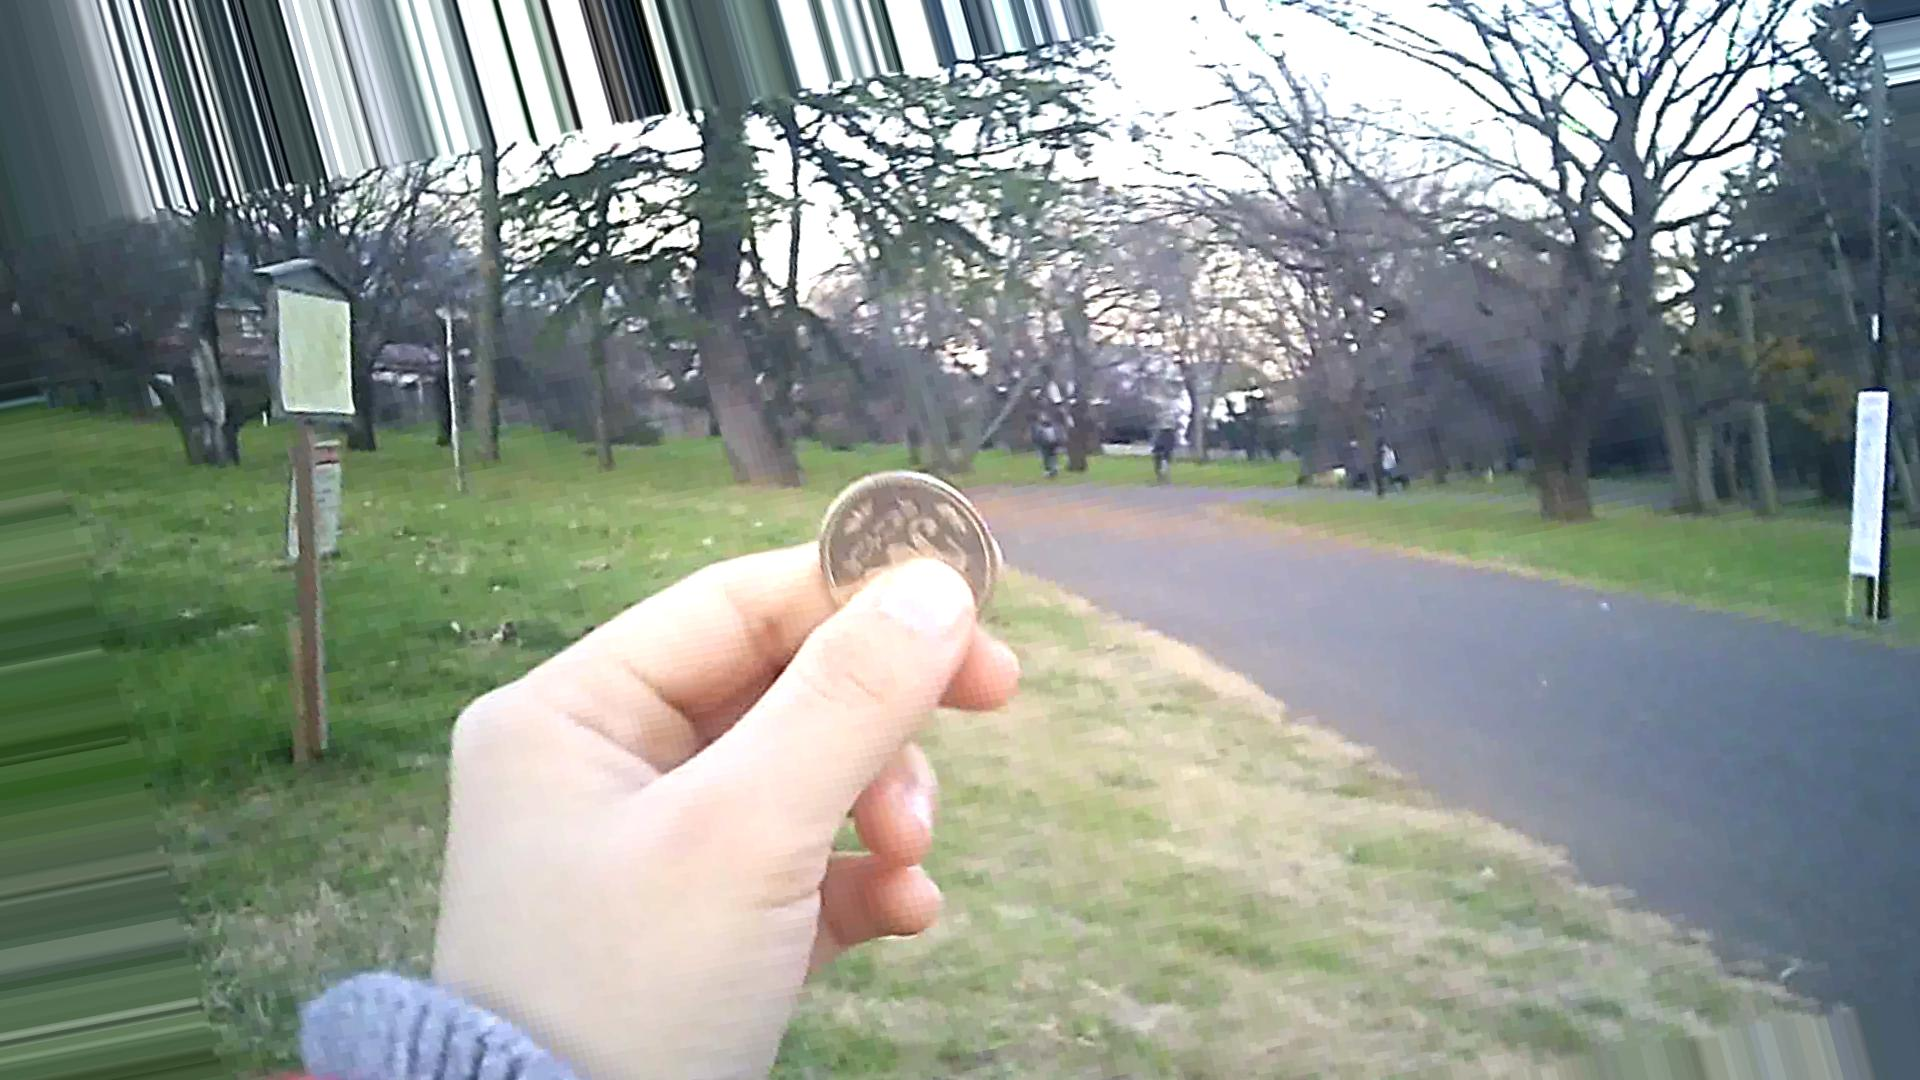500 Yen: (804, 455, 1014, 622)
